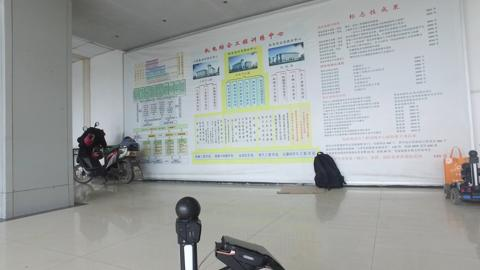bag: (313, 150, 348, 192), (441, 144, 471, 187)
chariot: (442, 148, 480, 207)
